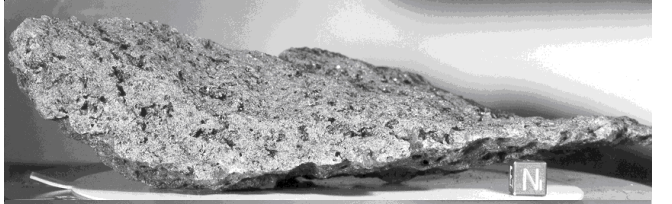Basalt: (25, 3, 652, 184), (105, 56, 400, 150)
